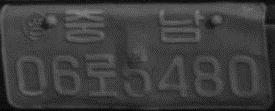0: (227, 54, 260, 98), (14, 54, 47, 97)
4: (156, 55, 190, 99)
5: (121, 53, 152, 98)
6: (51, 53, 82, 97)
8: (192, 54, 224, 98)
로: (83, 53, 118, 97)
영: (21, 7, 53, 42)
충남_D: (63, 7, 204, 44)
